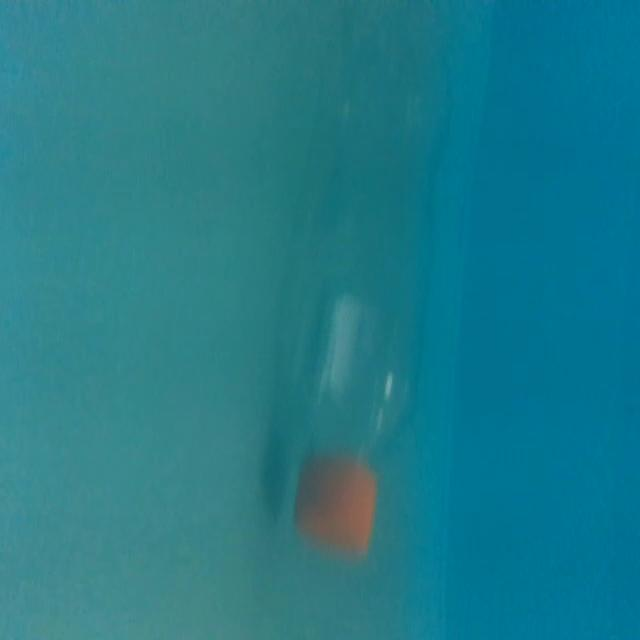plastic bottle: (287, 10, 459, 570)
